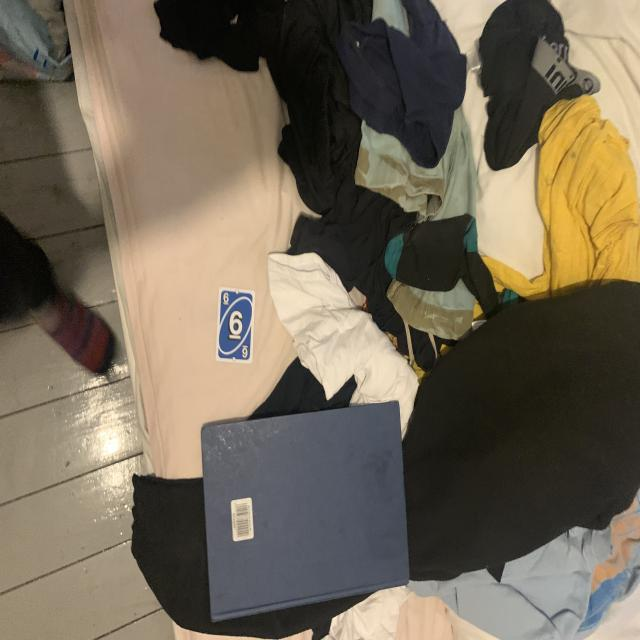lblue-6: (221, 290, 230, 308)
